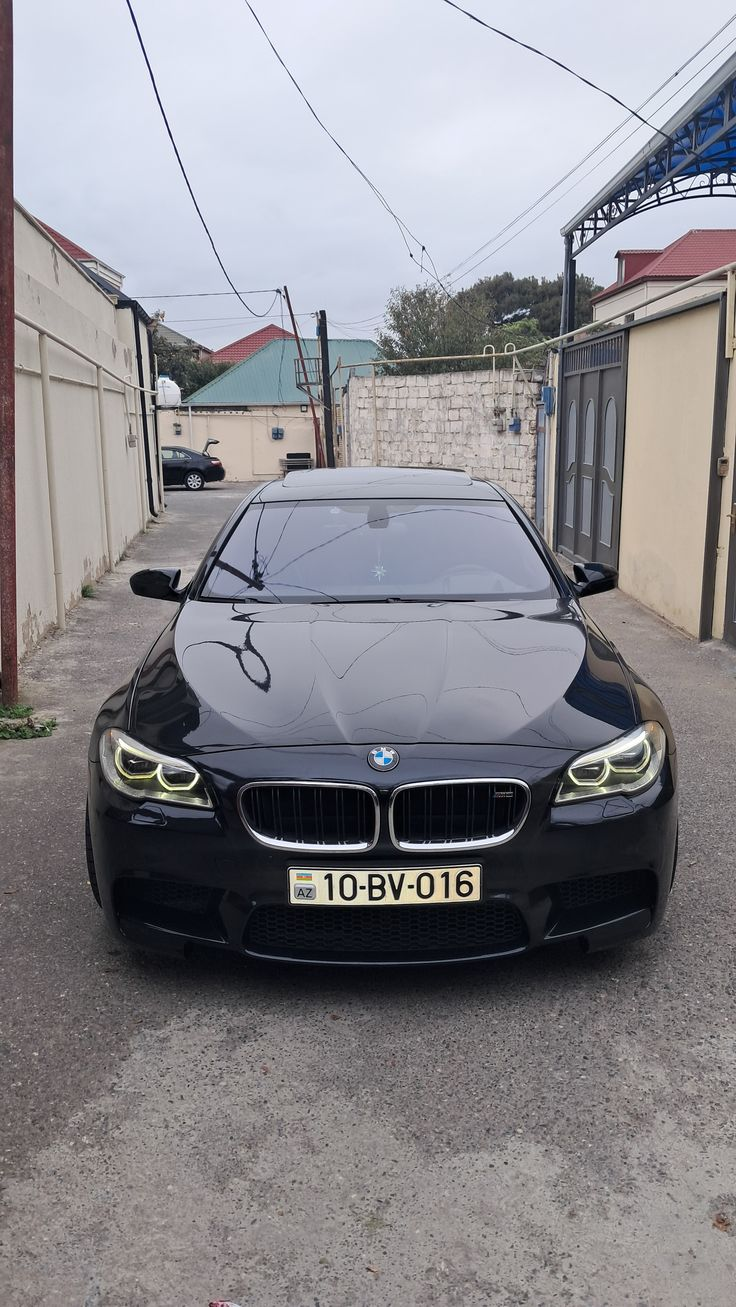plate: (285, 865, 481, 904)
